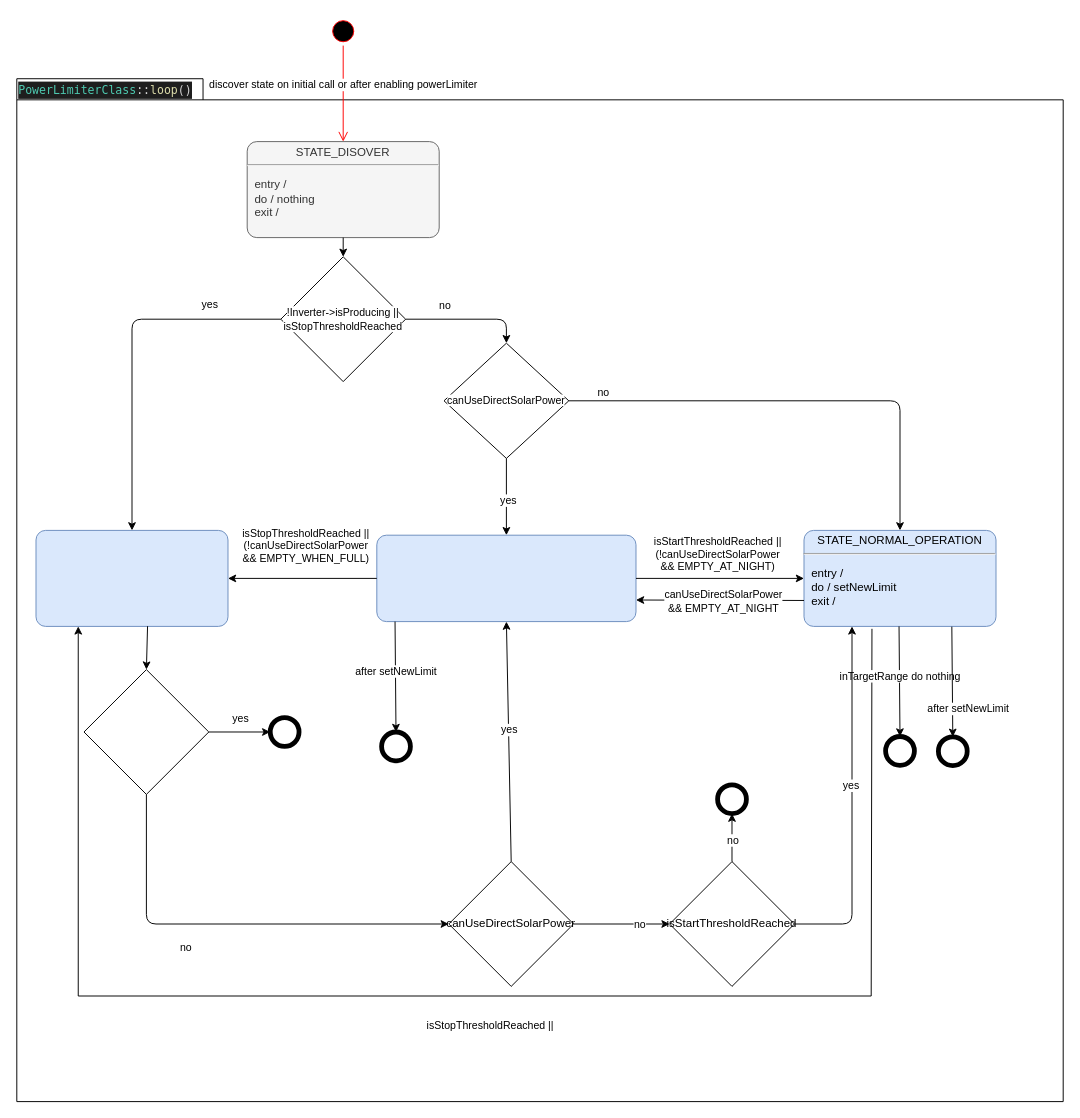
This 1080x1118 diagram has some shape labels left out. Here are the shapes that lost their labels. From the top down, the box of each, then its label:
(35, 529, 228, 626): STATE_OFF entry / stop inverter, limit lower limit do / nothing exit / nothing
(376, 534, 636, 622): STATE_CONSUME_SOLAR_POWER_ONLY entry / do / setNewLimit exit /
(83, 669, 209, 794): isStopThresholdReached
